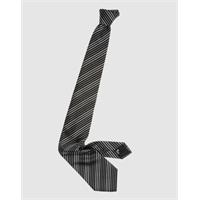tie: (58, 8, 131, 192)
